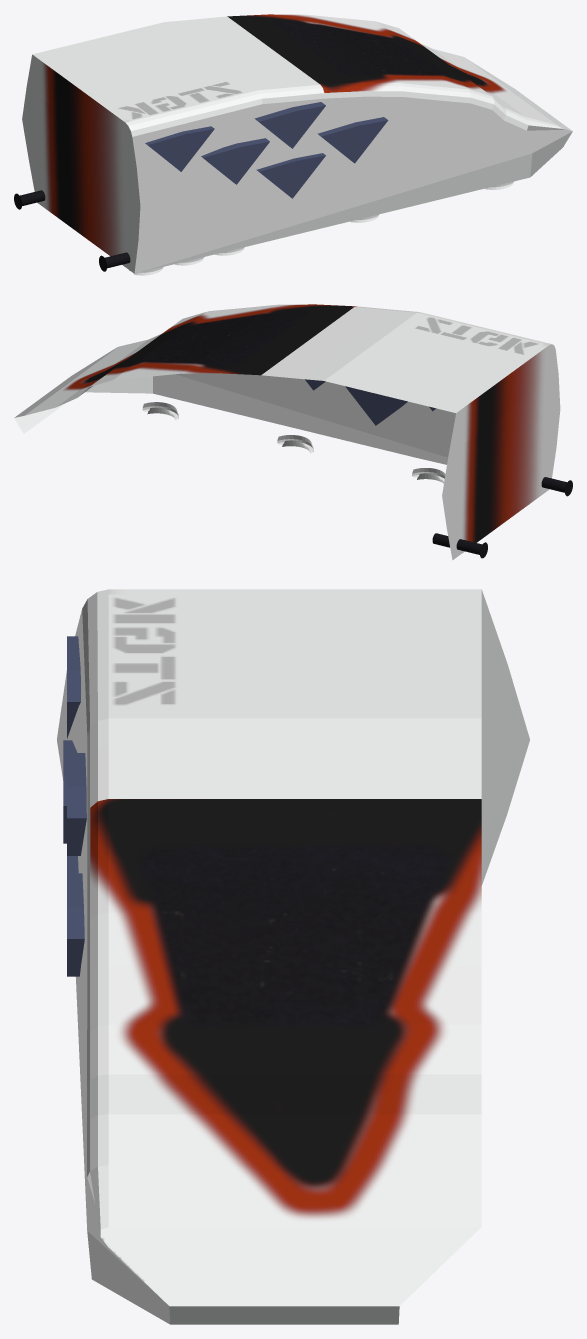
File: lokomotywa.obj
3 views of the same model, one above another, from view 1: azimuth 30°, elevation 25°; view 2: azimuth 150°, elevation 25°; view 3: azimuth 270°, elevation 25° (orthographic). The views are drawn at different scales.
Visible parts, largest first — view 1: Cube; view 2: Cube; view 3: Cube.
Part boxes in pixels (x1,y1,x2,y2): Cube: [14, 14, 572, 275]; Cube: [14, 304, 572, 560]; Cube: [57, 589, 529, 1324].
Size of the model in its own units: 20.36 by 6.47 by 8.63.
Materials: 2 (2 with a texture image).
